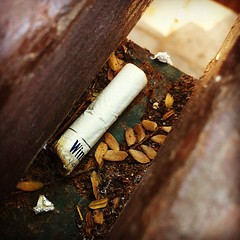cigarette: (46, 61, 150, 179)
